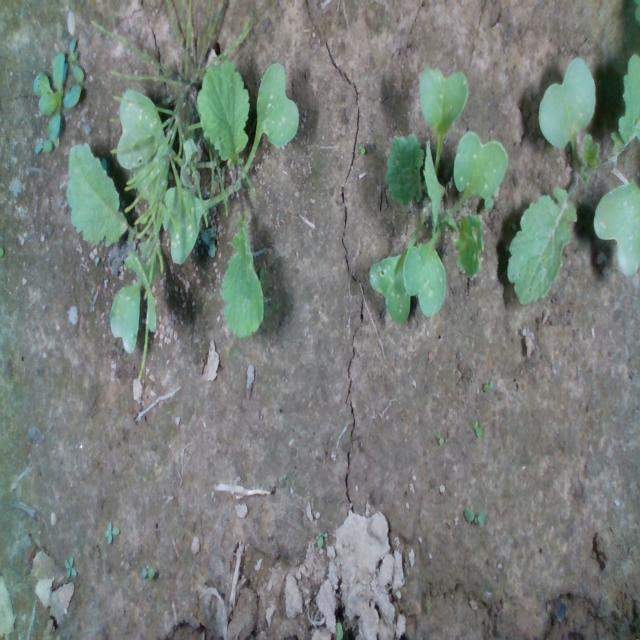weed: (463, 506, 487, 525), (103, 520, 119, 545), (64, 554, 78, 580), (138, 562, 158, 580), (471, 416, 482, 437), (357, 142, 365, 156)
